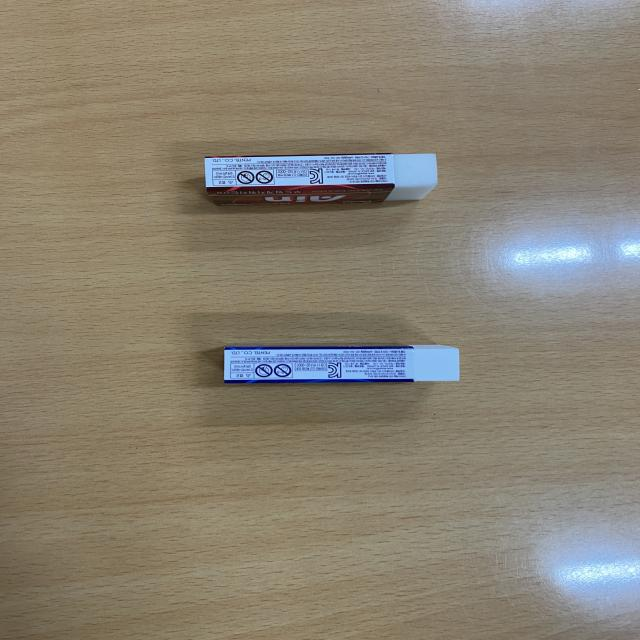blue: (218, 342, 465, 388)
red: (197, 150, 443, 208)
